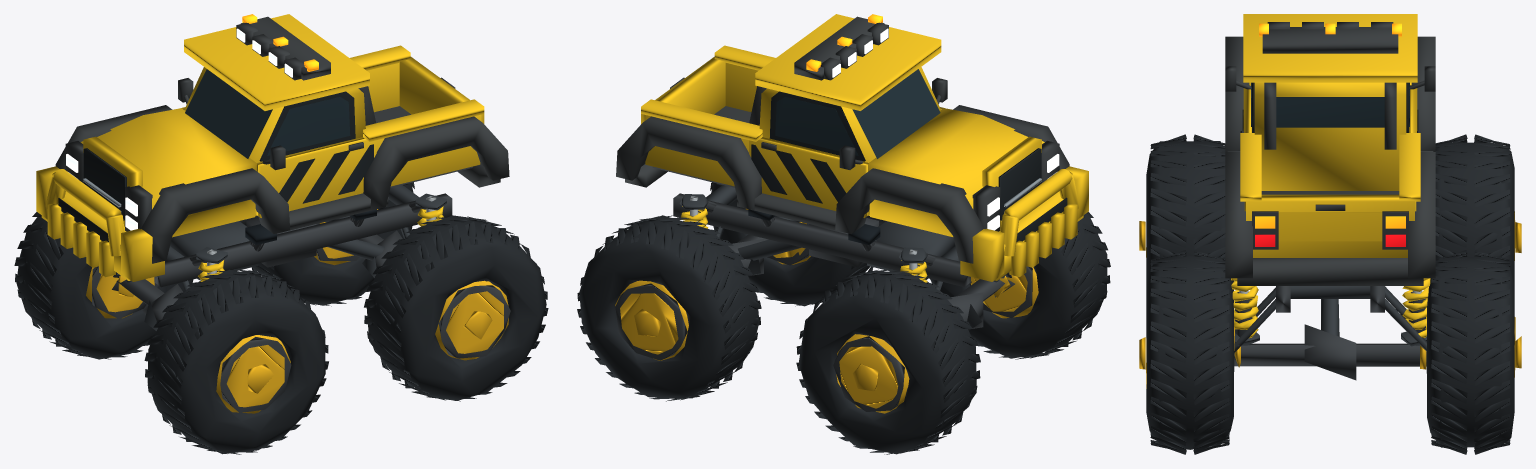
File: DiggerDan_LOD2.fbx
The picture shows the model from 3 angles, left to right: view 1: azimuth 30°, elevation 25°; view 2: azimuth 150°, elevation 25°; view 3: azimuth 270°, elevation 25°; orthographic projection. The views are drawn at different scales.
Visible parts, largest first — view 1: DiggerDan_LOD2_sprung_body_Geometry, DiggerDan_LOD2_FL_Spin_Geometry, DiggerDan_LOD2_RL_Spin_Geometry, DiggerDan_LOD2_FR_Spin_Geometry, DiggerDan_LOD2_RR_Spin_Geometry, DiggerDan_LOD2_FRONT_axle_Geometry, DiggerDan_LOD2_Root_Geometry, DiggerDan_LOD2_FRONT_shock_-1_Geometry, DiggerDan_LOD2_REAR_shock_-1_Geometry, DiggerDan_LOD2_REAR_axle_Geometry; view 2: DiggerDan_LOD2_sprung_body_Geometry, DiggerDan_LOD2_RR_Spin_Geometry, DiggerDan_LOD2_FR_Spin_Geometry, DiggerDan_LOD2_FL_Spin_Geometry, DiggerDan_LOD2_RL_Spin_Geometry, DiggerDan_LOD2_FRONT_axle_Geometry, DiggerDan_LOD2_Root_Geometry, DiggerDan_LOD2_REAR_shock_1_Geometry, DiggerDan_LOD2_FRONT_shock_1_Geometry, DiggerDan_LOD2_REAR_axle_Geometry; view 3: DiggerDan_LOD2_sprung_body_Geometry, DiggerDan_LOD2_RR_Spin_Geometry, DiggerDan_LOD2_RL_Spin_Geometry, DiggerDan_LOD2_FR_Spin_Geometry, DiggerDan_LOD2_FL_Spin_Geometry, DiggerDan_LOD2_REAR_axle_Geometry, DiggerDan_LOD2_Root_Geometry, DiggerDan_LOD2_REAR_shock_-1_Geometry, DiggerDan_LOD2_REAR_shock_1_Geometry.
Part boxes in pixels (x1,y1,x2,y2): DiggerDan_LOD2_sprung_body_Geometry: (36, 14, 509, 287); DiggerDan_LOD2_FL_Spin_Geometry: (144, 269, 328, 454); DiggerDan_LOD2_RL_Spin_Geometry: (364, 215, 548, 401); DiggerDan_LOD2_FR_Spin_Geometry: (14, 212, 193, 359); DiggerDan_LOD2_RR_Spin_Geometry: (244, 182, 414, 306); DiggerDan_LOD2_FRONT_axle_Geometry: (112, 279, 183, 330); DiggerDan_LOD2_Root_Geometry: (113, 227, 410, 298); DiggerDan_LOD2_FRONT_shock_-1_Geometry: (196, 247, 227, 281); DiggerDan_LOD2_REAR_shock_-1_Geometry: (415, 193, 446, 226); DiggerDan_LOD2_REAR_axle_Geometry: (357, 230, 402, 277); DiggerDan_LOD2_sprung_body_Geometry: (616, 14, 1088, 286); DiggerDan_LOD2_RR_Spin_Geometry: (577, 215, 761, 401); DiggerDan_LOD2_FR_Spin_Geometry: (796, 269, 980, 454); DiggerDan_LOD2_FL_Spin_Geometry: (930, 212, 1110, 359); DiggerDan_LOD2_RL_Spin_Geometry: (710, 182, 880, 306); DiggerDan_LOD2_FRONT_axle_Geometry: (947, 279, 1014, 330); DiggerDan_LOD2_Root_Geometry: (715, 226, 1011, 293); DiggerDan_LOD2_REAR_shock_1_Geometry: (679, 194, 708, 228); DiggerDan_LOD2_FRONT_shock_1_Geometry: (899, 247, 927, 282); DiggerDan_LOD2_REAR_axle_Geometry: (728, 234, 768, 275); DiggerDan_LOD2_sprung_body_Geometry: (1225, 14, 1435, 312); DiggerDan_LOD2_RR_Spin_Geometry: (1420, 250, 1521, 454); DiggerDan_LOD2_RL_Spin_Geometry: (1139, 250, 1240, 454); DiggerDan_LOD2_FR_Spin_Geometry: (1435, 134, 1521, 286); DiggerDan_LOD2_FL_Spin_Geometry: (1139, 134, 1233, 288); DiggerDan_LOD2_REAR_axle_Geometry: (1234, 324, 1426, 380); DiggerDan_LOD2_Root_Geometry: (1234, 286, 1426, 353); DiggerDan_LOD2_REAR_shock_-1_Geometry: (1231, 278, 1259, 346); DiggerDan_LOD2_REAR_shock_1_Geometry: (1401, 278, 1430, 346).
Size of the model in its own units: 535 by 431 by 414.
